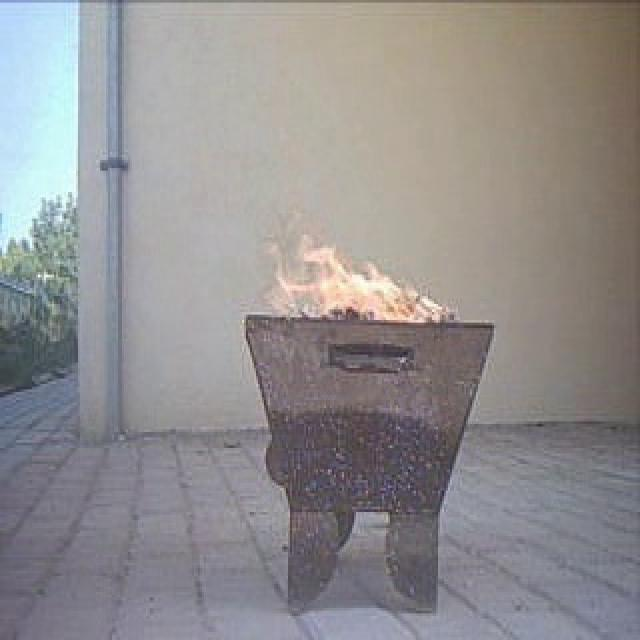fire: (273, 242, 441, 326)
